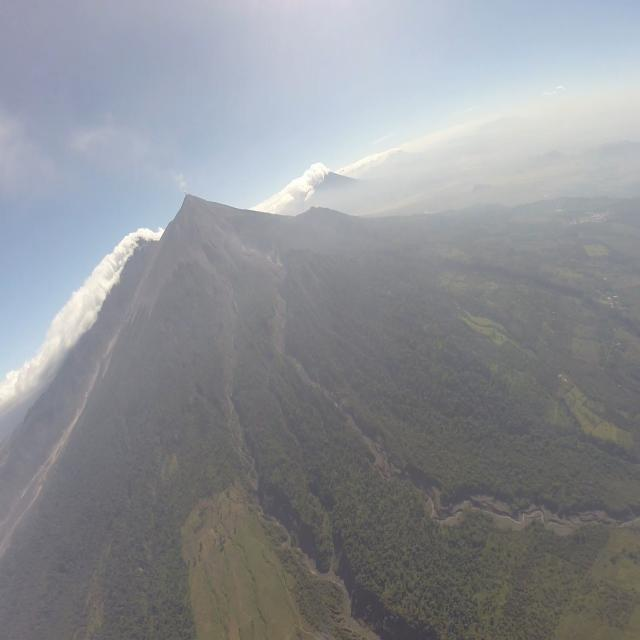Summit: (178, 191, 203, 212)
